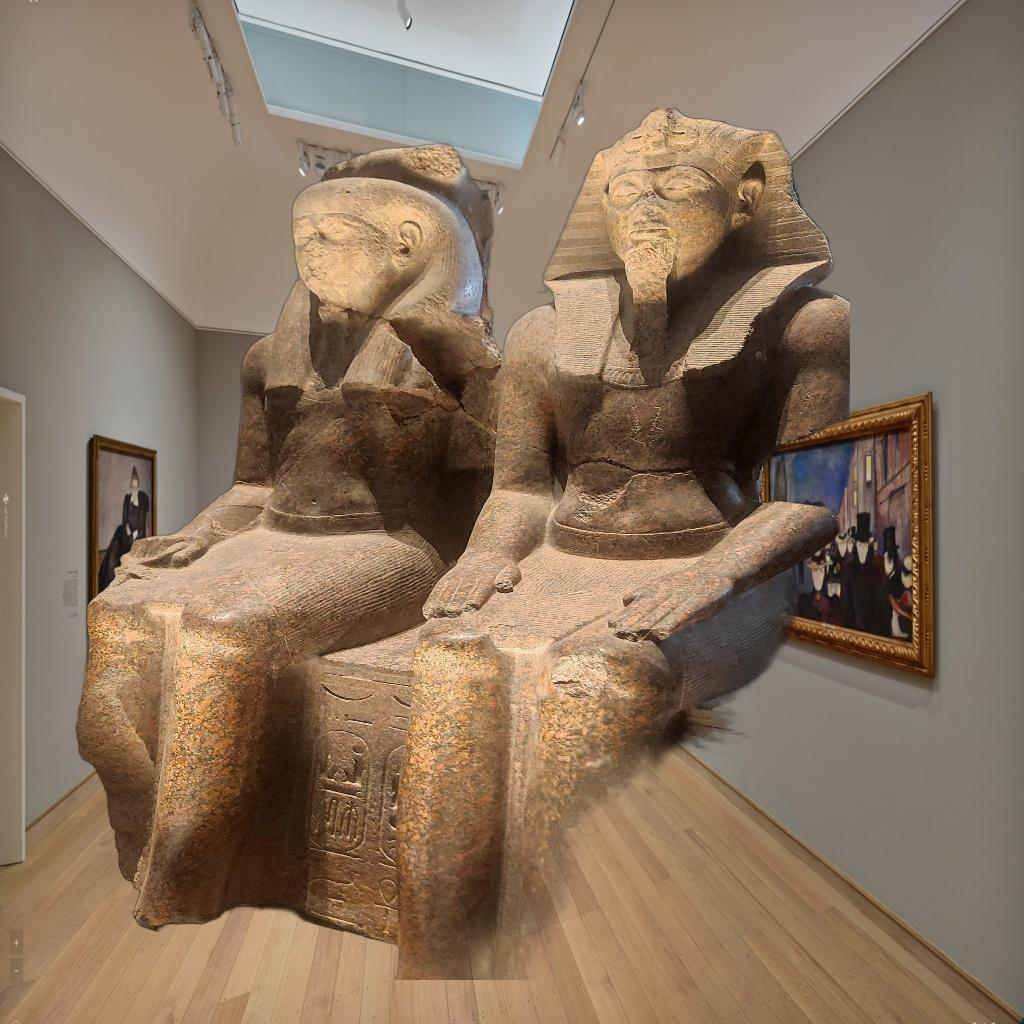Seated Statue of Ramesses II and God Ptah: (8, 108, 850, 980)
